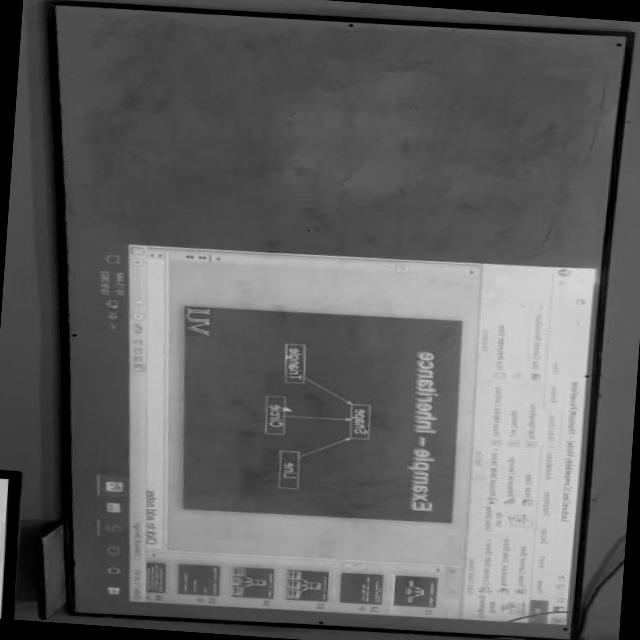Slide: (87, 242, 602, 625)
White-board: (47, 4, 633, 638)
